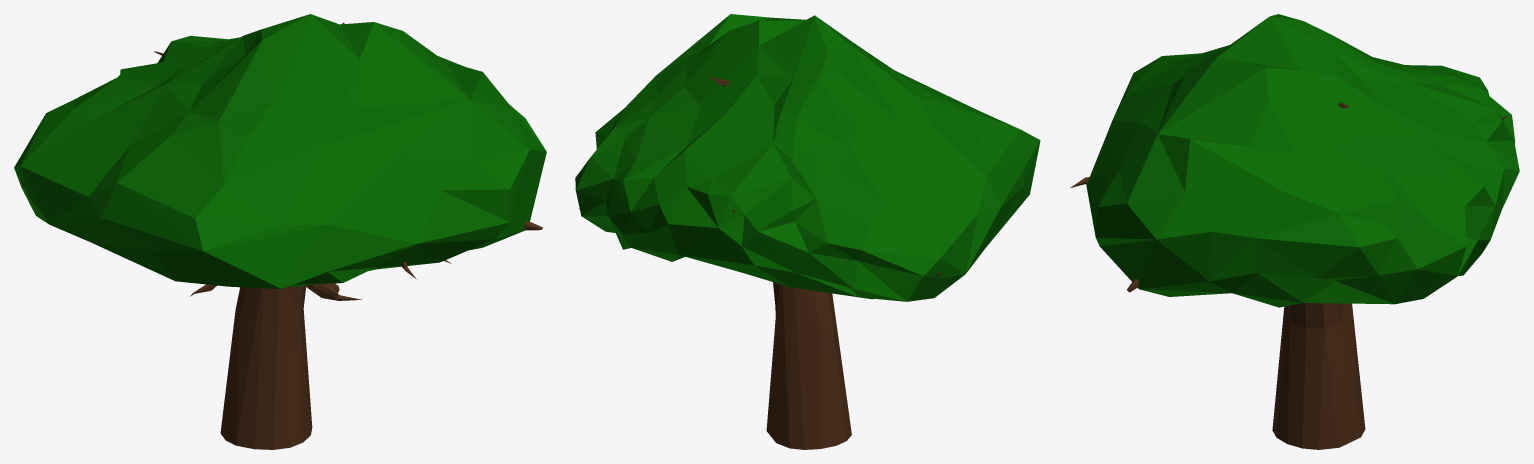
Rendered from Tree2.fbx.
3 renders of one model, left to right at view 1: azimuth 30°, elevation 25°; view 2: azimuth 150°, elevation 25°; view 3: azimuth 270°, elevation 25°, orthographic. The views are drawn at different scales.
Visible parts, largest first — view 1: Icosphere, Tree; view 2: Icosphere, Tree; view 3: Icosphere, Tree.
Part boxes in pixels (x1,y1,x2,y2): Icosphere: [14, 14, 546, 288]; Tree: [21, 22, 542, 449]; Icosphere: [575, 14, 1040, 301]; Tree: [578, 77, 1010, 449]; Icosphere: [1086, 14, 1519, 307]; Tree: [1070, 102, 1507, 449].
Size of the model in its own units: 989 by 1002 by 967.
1 material, 1 textured.
